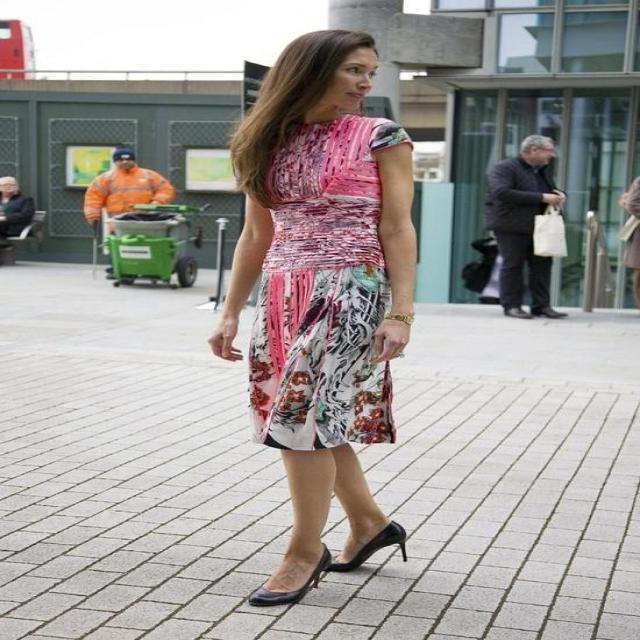dress: (243, 113, 414, 450)
